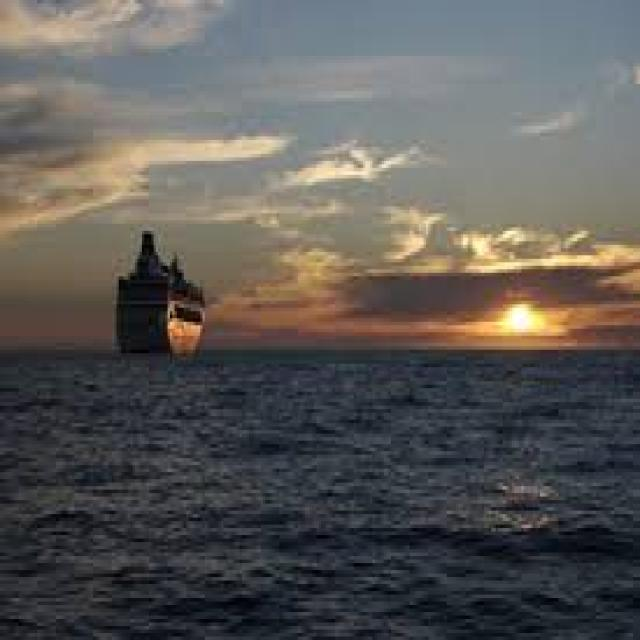passenger ship: (105, 208, 222, 356)
